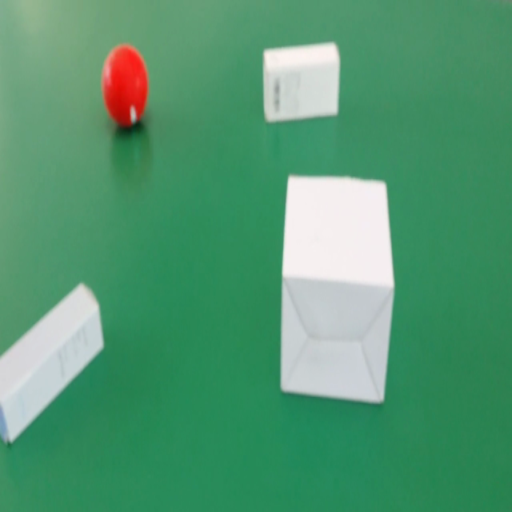ball: (100, 43, 146, 125)
